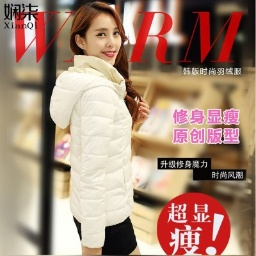face: (69, 2, 132, 71)
